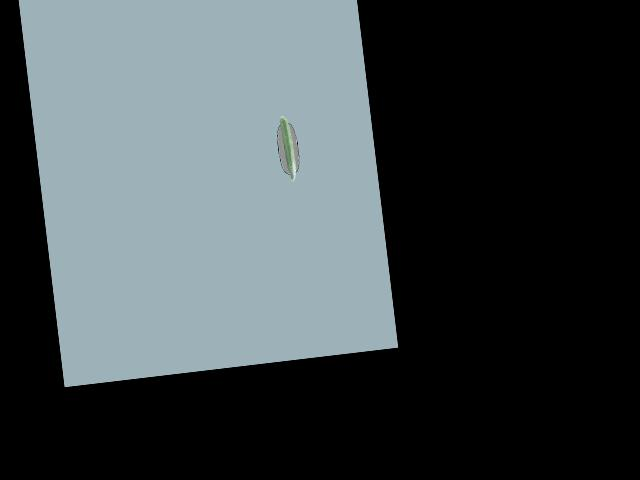cucumber: (278, 115, 297, 182)
